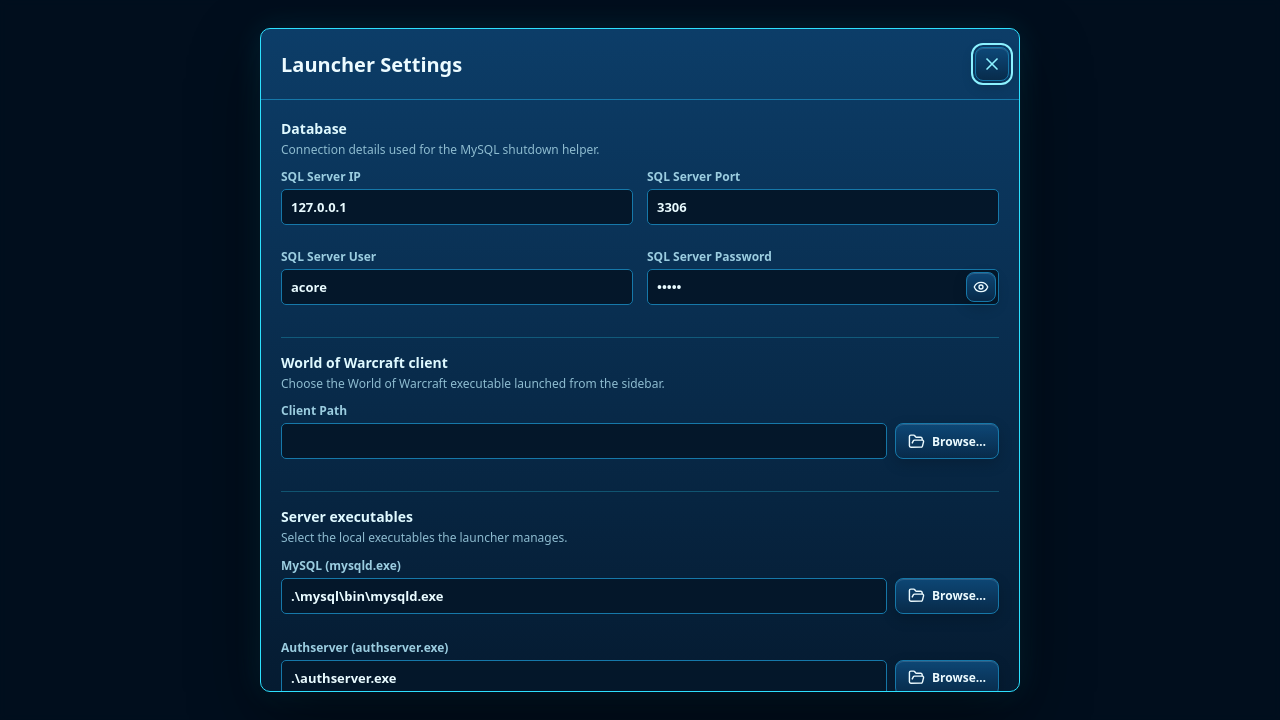
SettingsModal › reveals and re-hides the SQL password without changing its value
Click the button named "Show SQL Server Password": x=981, y=287 [966,272,996,302]
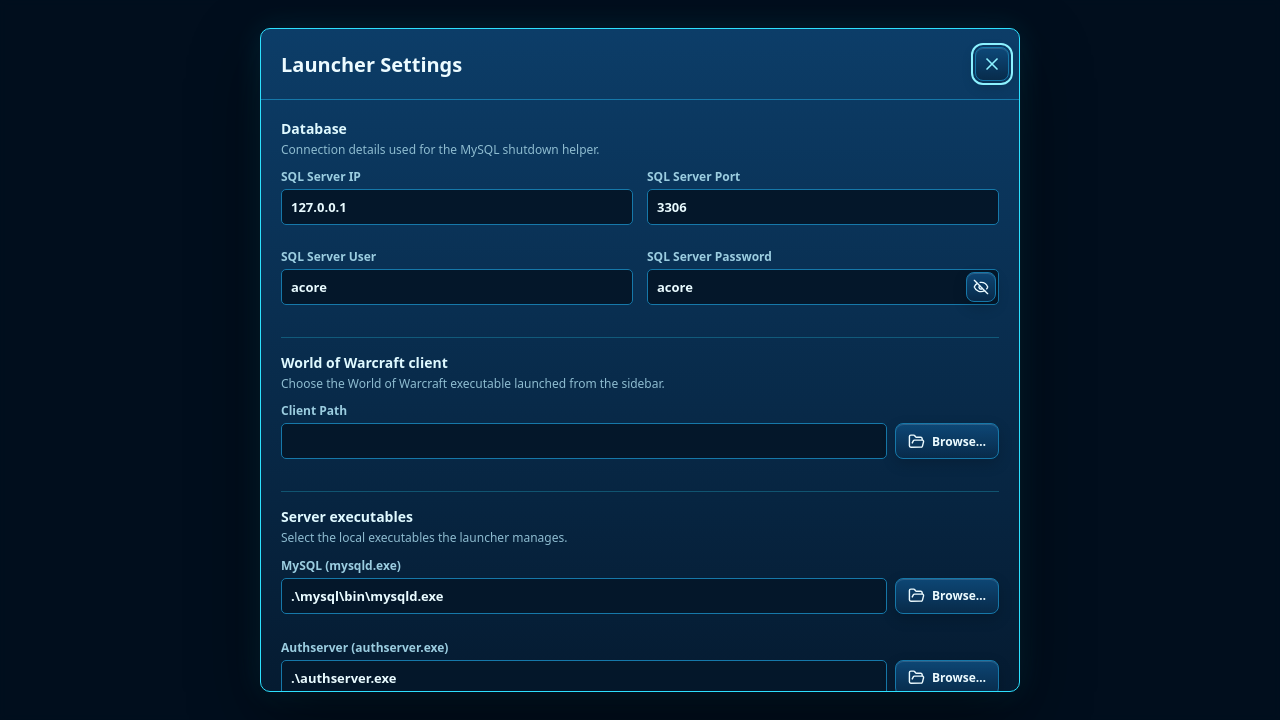
Expected: the field labelled "SQL Server Password" holds "acore", [647,269,999,305]
Expected: the field labelled "SQL Server Password" shows its text, [647,269,999,305]
Click the button named "Hide SQL Server Password": x=981, y=287 [966,272,996,302]
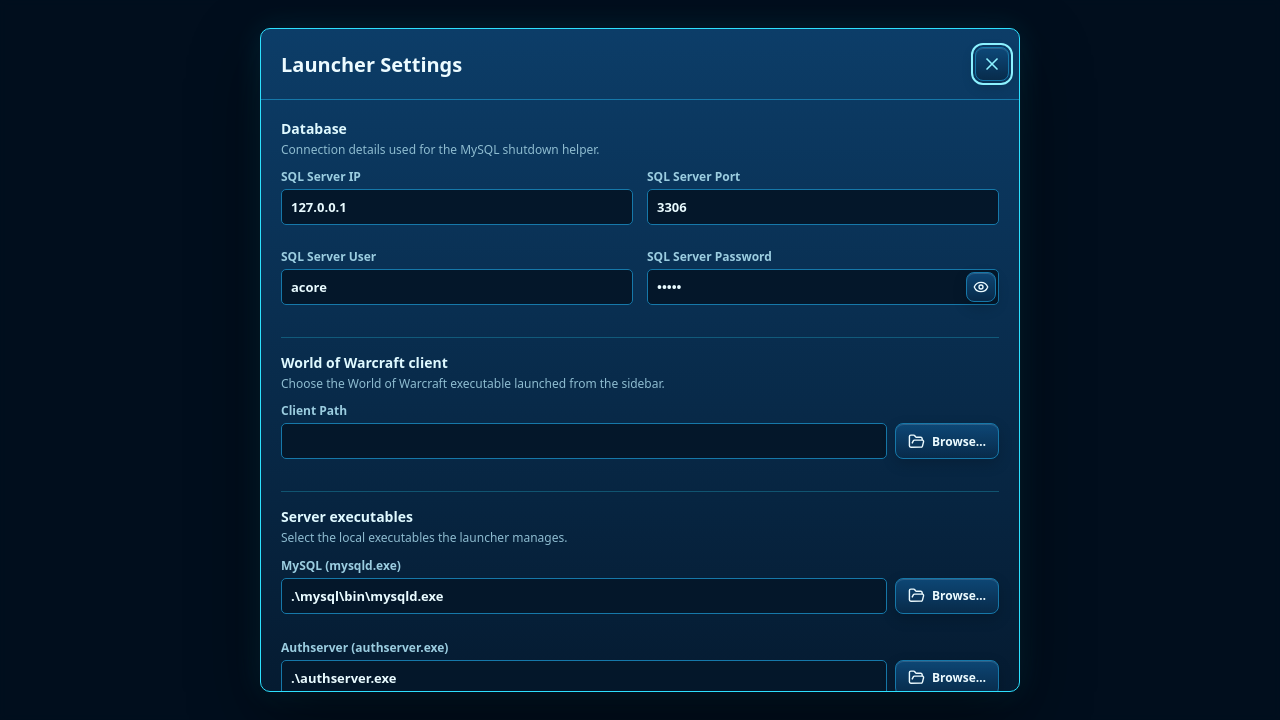
Expected: the password field labelled "SQL Server Password" hides its text, [647,269,999,305]
